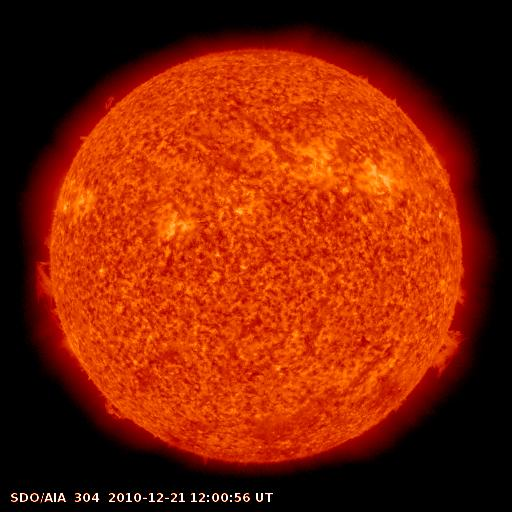prominence: (410, 317, 488, 382), (24, 256, 73, 339), (89, 382, 141, 436), (443, 268, 487, 316), (89, 86, 132, 122)
